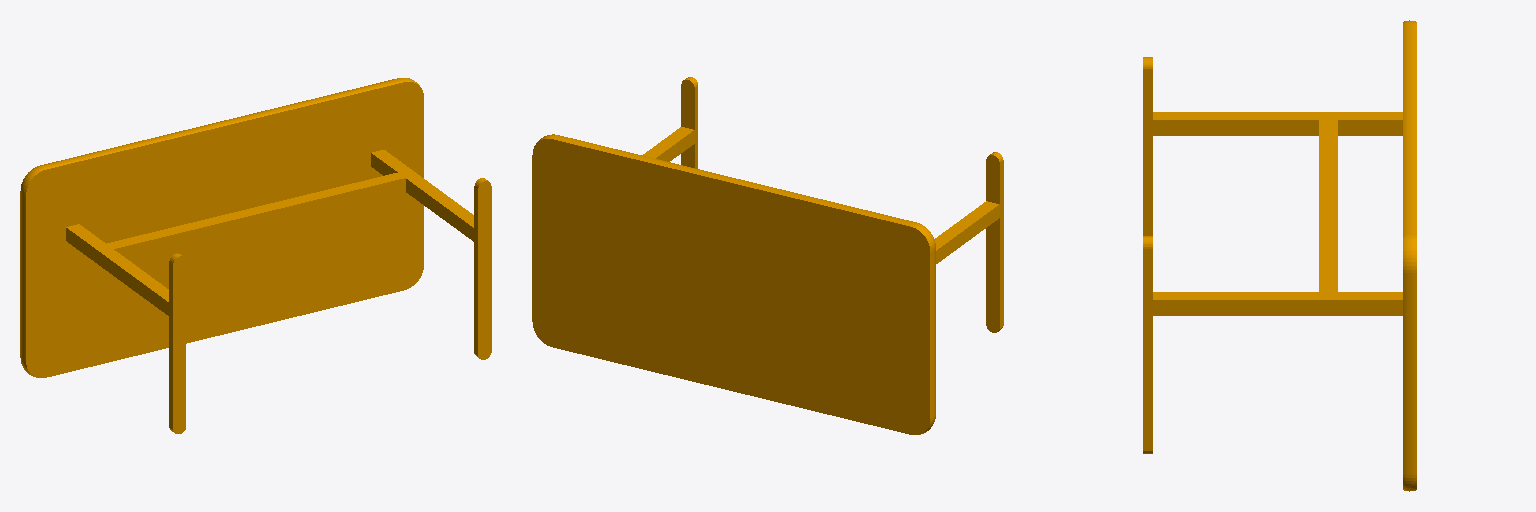
URDF robot description (simpleDesk):
<robot
  name="simpleDesk">
  <link name="simpleDesk">
    <inertial>
      <origin xyz="0.0 0.0 0.0" rpy="0 0 0"/>
      <mass value="0.5"/>
      <inertia ixx="1" ixy="0.0" ixz="0.0" iyy="1" iyz="0.0" izz="1" />
    </inertial>

    <visual>
      <geometry>
        <mesh filename="simpleDesk.obj" scale="1 1 1" />
      </geometry>
     </visual>

    <collision>
      <geometry>
        <mesh filename="simpleDesk.obj" scale="1 1 1" />
      </geometry>
    </collision>

  </link>
</robot>

--- Facts derived from the render (not from the file) ---
The picture shows the robot from 3 angles, left to right: view 1: azimuth 30°, elevation 25°; view 2: azimuth 150°, elevation 25°; view 3: azimuth 270°, elevation 25°; orthographic projection.
Model simpleDesk with 1 links and 0 joints (none), rooted at simpleDesk, posed all joints at 0.
Links seen in each view (by area): view 1: simpleDesk; view 2: simpleDesk; view 3: simpleDesk.
Link boxes in pixels (x1=…): simpleDesk: x1=20, y1=78, x2=491, y2=433; simpleDesk: x1=532, y1=77, x2=1003, y2=434; simpleDesk: x1=1143, y1=20, x2=1416, y2=491.
Bounding box of the posed robot: 1.53 × 0.7493 × 0.7695 m (x, y, z).
1 mesh visuals loaded from 1 distinct referenced files (1 OBJ).